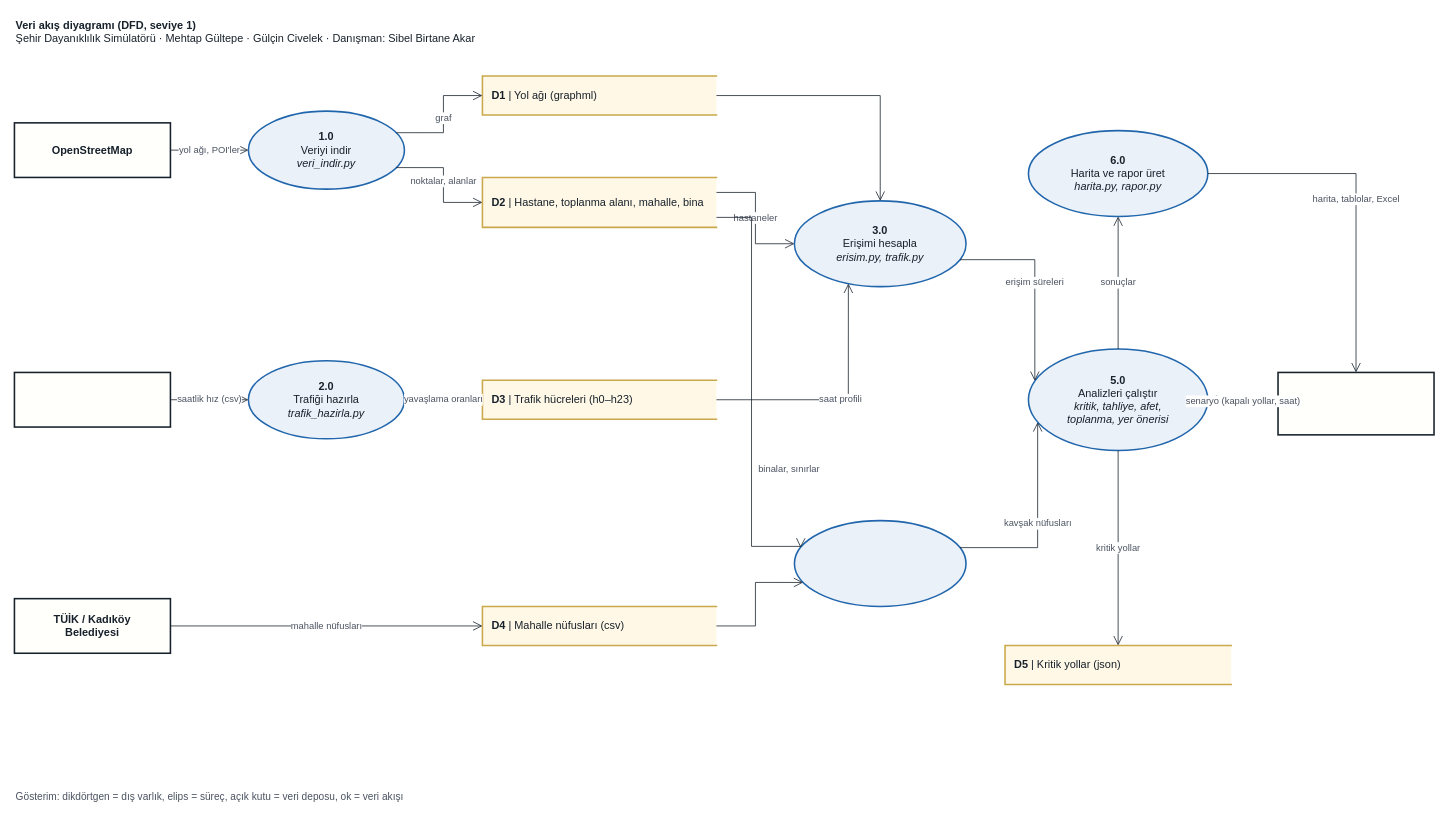
Image size: 1448x822. Some labels were removed from this diagram. The shapes that lost their labels are listed below. From the top down, each one's centre as x and y in pixels, then its label:
At [92,399]: "İBB Açık Veri".
At [1355,403]: "Planlamacı (AFAD / belediye)".
At [879,563]: "4.0 Nüfusu dağıt nufus.py".
